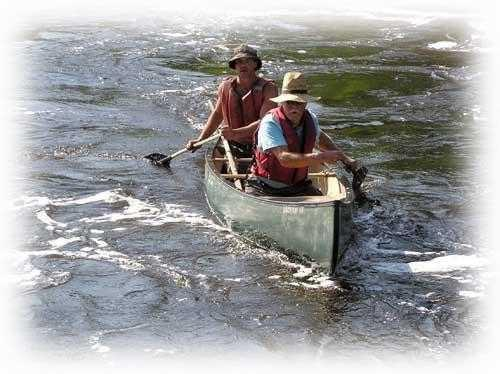kayak: (199, 142, 357, 277)
